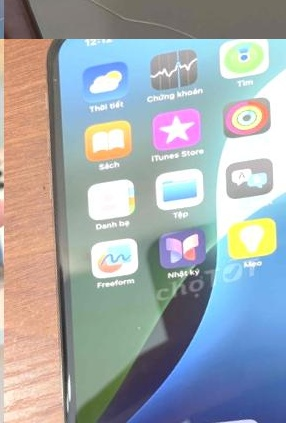physical_damage: (16, 0, 286, 39)
scratch: (36, 68, 75, 93)
